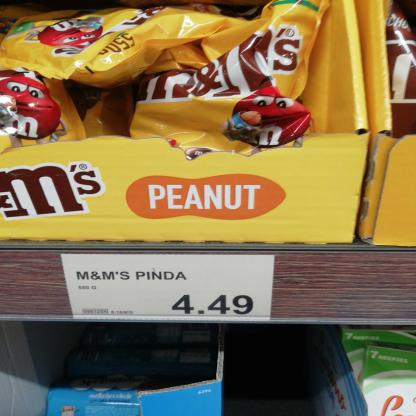prtg: (59, 253, 278, 322)
